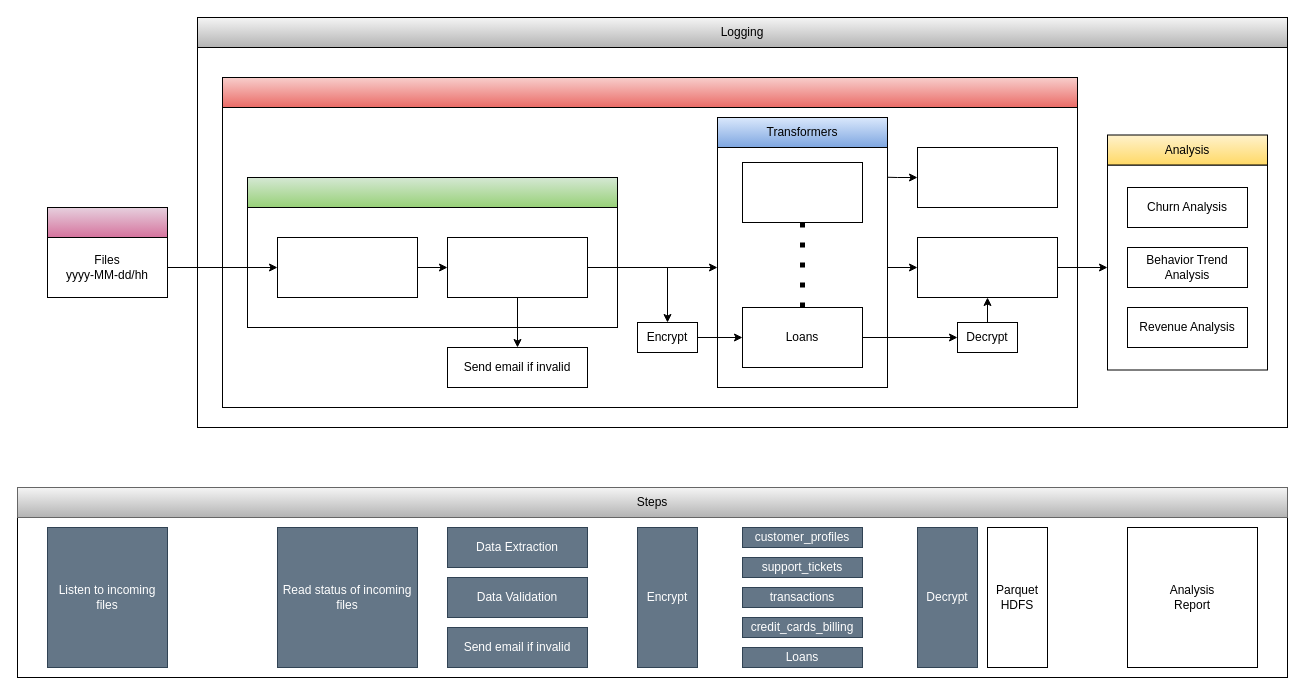
Image size: 1305x695. Some labels were removed from this diagram. Each missing label, with the box of its shape:
Check in State Store: (276, 236, 418, 298)
Customers: (742, 162, 862, 222)
Error Handling / Recovery: (222, 76, 1078, 108)
Input Files: (46, 206, 168, 238)
Prechecks & Validation: (246, 176, 618, 208)
Save as Parquet Format Upload to HDFS: (916, 146, 1058, 208)
Save updated files: (916, 236, 1058, 298)
Schema Validation: (446, 236, 588, 298)
